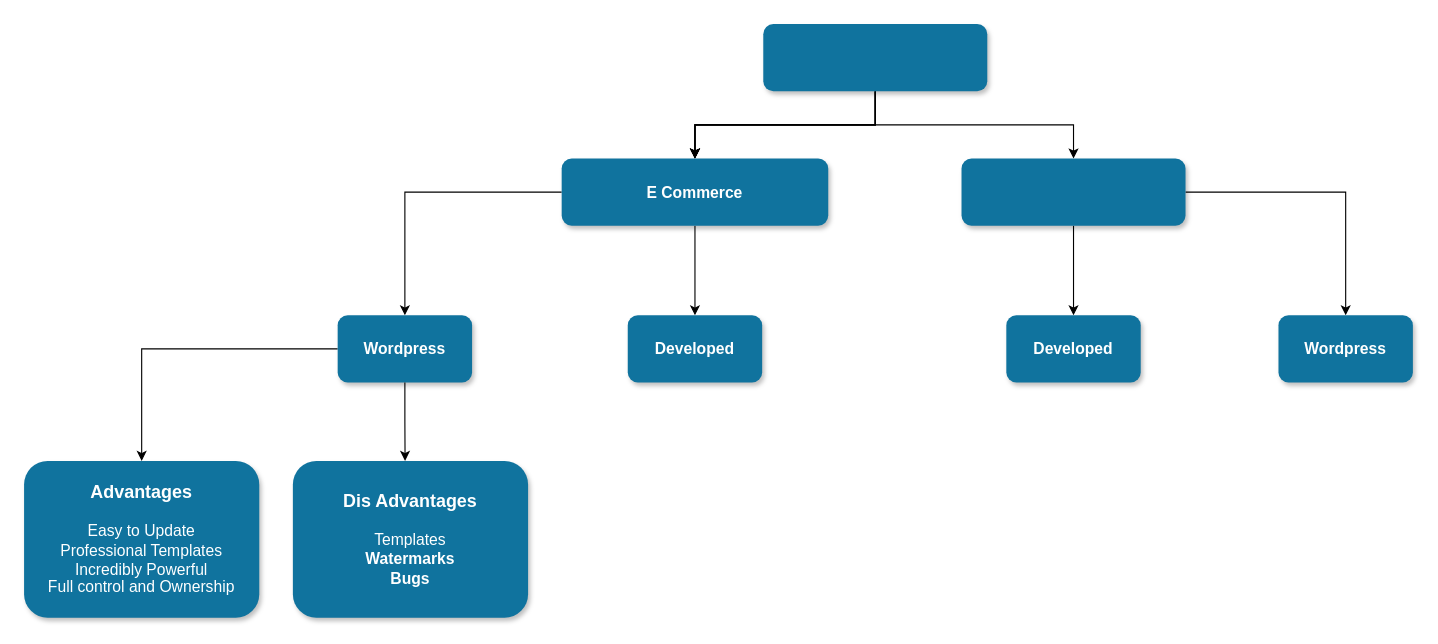
The diagram is 1438 pixels wide and 644 high, and some of its shapes have lost their labels. The centre of each missing label's shape, as x and y in pixels:
Static Sites: (x=1074, y=193)
Web Sites: (x=875, y=59)
